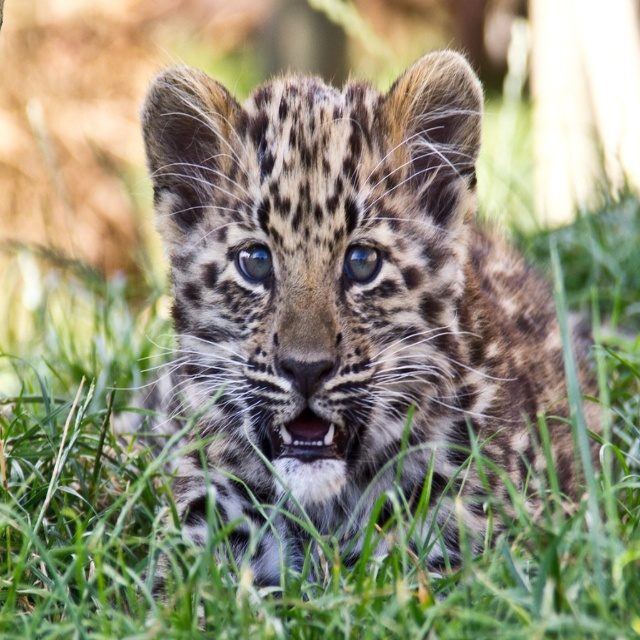Cheetah: (108, 37, 612, 631)
